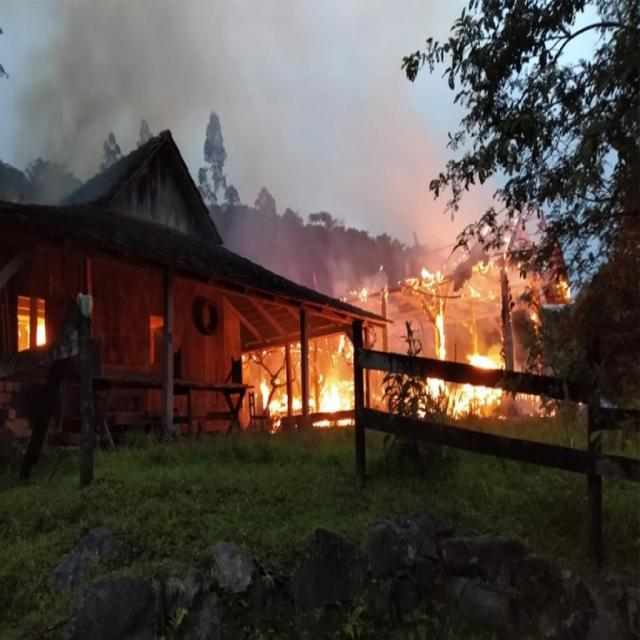fire: (243, 266, 513, 418)
